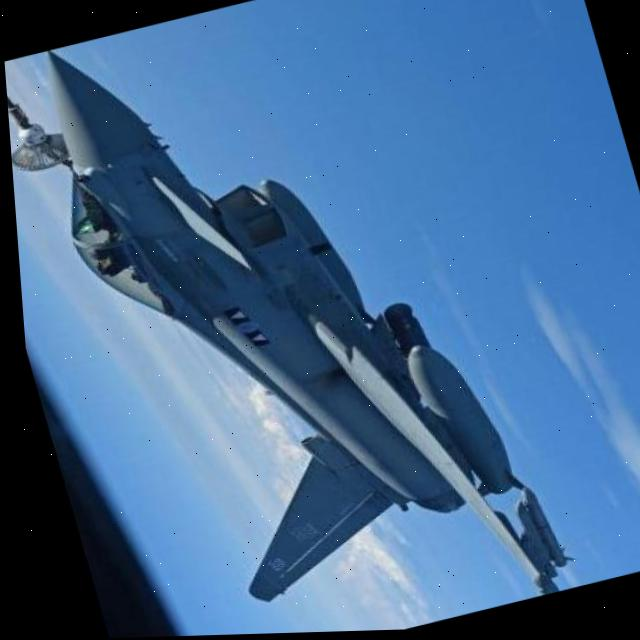missile: (390, 314, 525, 517)
